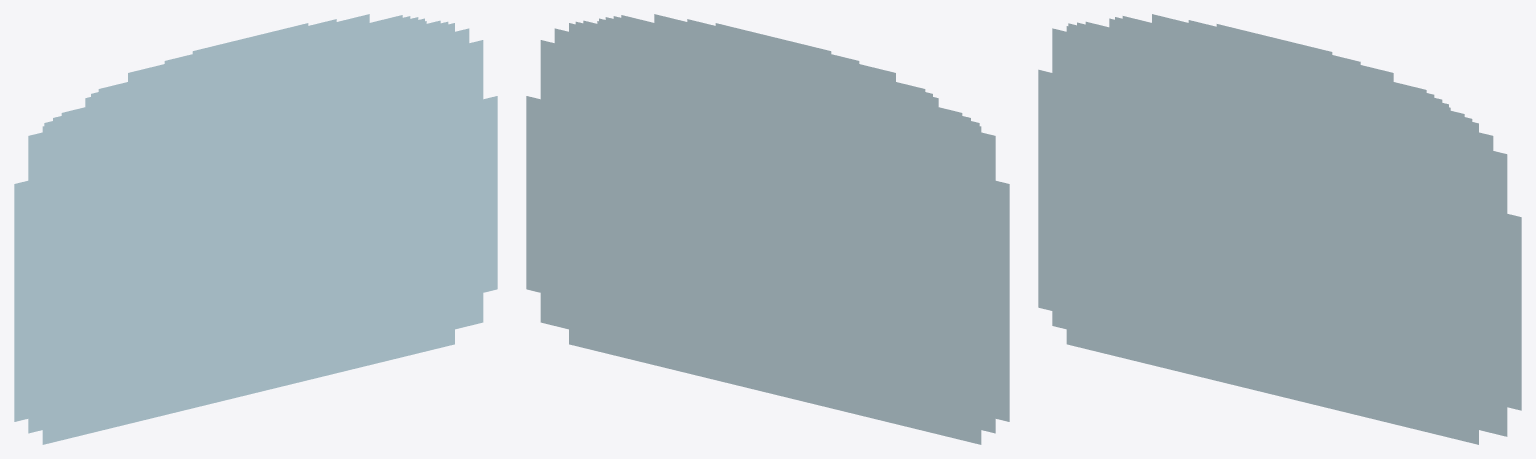
Rendered from wp_water_16.obj.
3 views of the same model, side by side, from view 1: azimuth 30°, elevation 25°; view 2: azimuth 150°, elevation 25°; view 3: azimuth 330°, elevation 25° (orthographic).
Bounding box in the file's own units: 0.4978 × 0.3514 × 0.
Materials: 1 (1 with a texture image).
